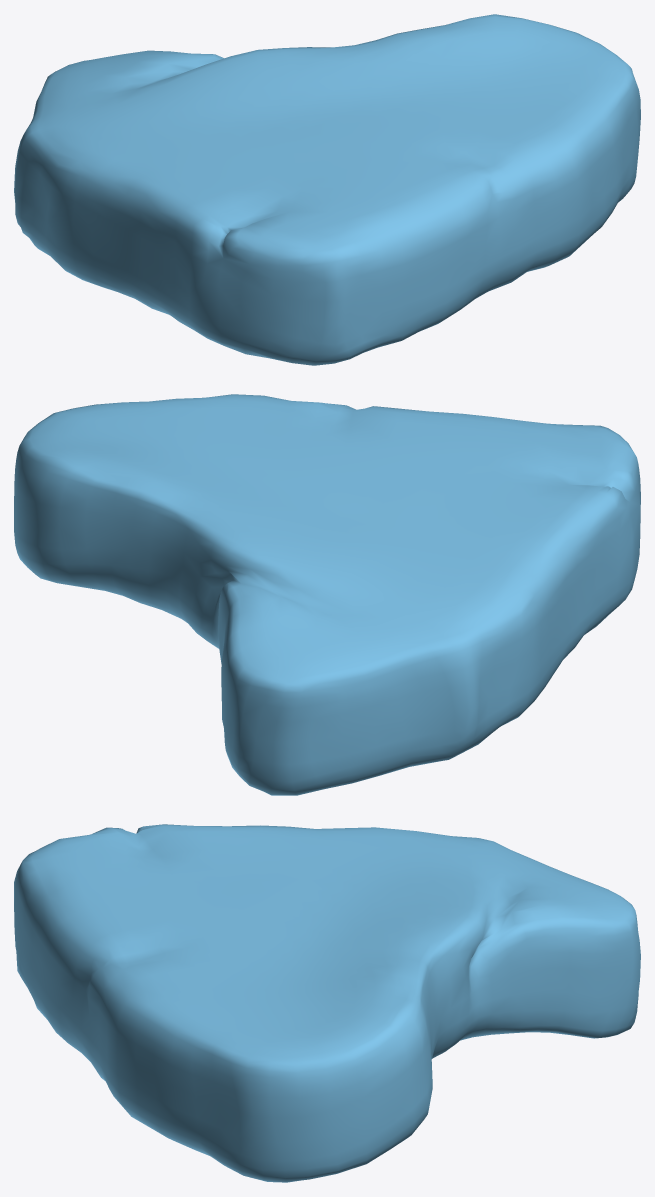
The model's file is Platform1.fbx.
The picture shows the model from 3 angles, top to bottom: view 1: azimuth 30°, elevation 25°; view 2: azimuth 150°, elevation 25°; view 3: azimuth 270°, elevation 25°; orthographic projection. The views are drawn at different scales.
Visible parts, largest first — view 1: Retopo_Cube.001; view 2: Retopo_Cube.001; view 3: Retopo_Cube.001.
Part boxes in pixels (box(x1,y1,x2,y2)): Retopo_Cube.001: box(14, 14, 640, 365); Retopo_Cube.001: box(14, 394, 640, 795); Retopo_Cube.001: box(14, 824, 640, 1182).
Size of the model in its own units: 453 by 138 by 454.
